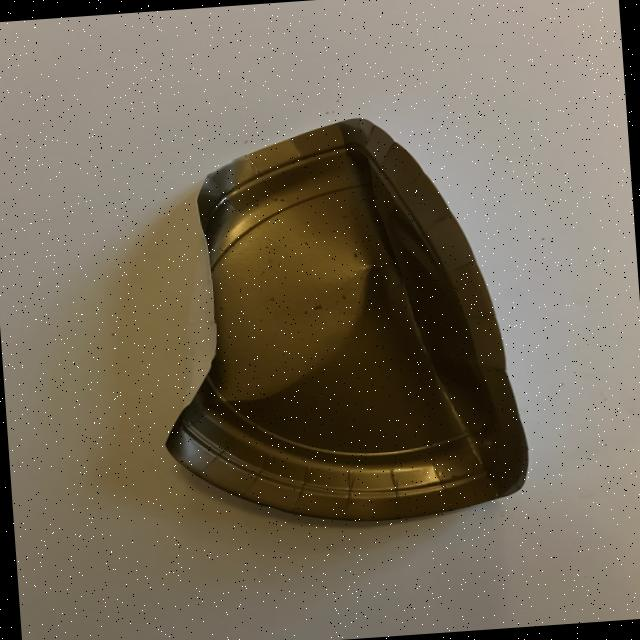paper: (0, 0, 640, 640), (142, 106, 533, 536)
